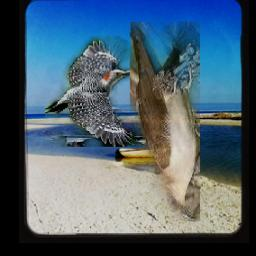Cuckoo: (130, 23, 200, 222)
Woodpecker: (45, 36, 146, 147)
